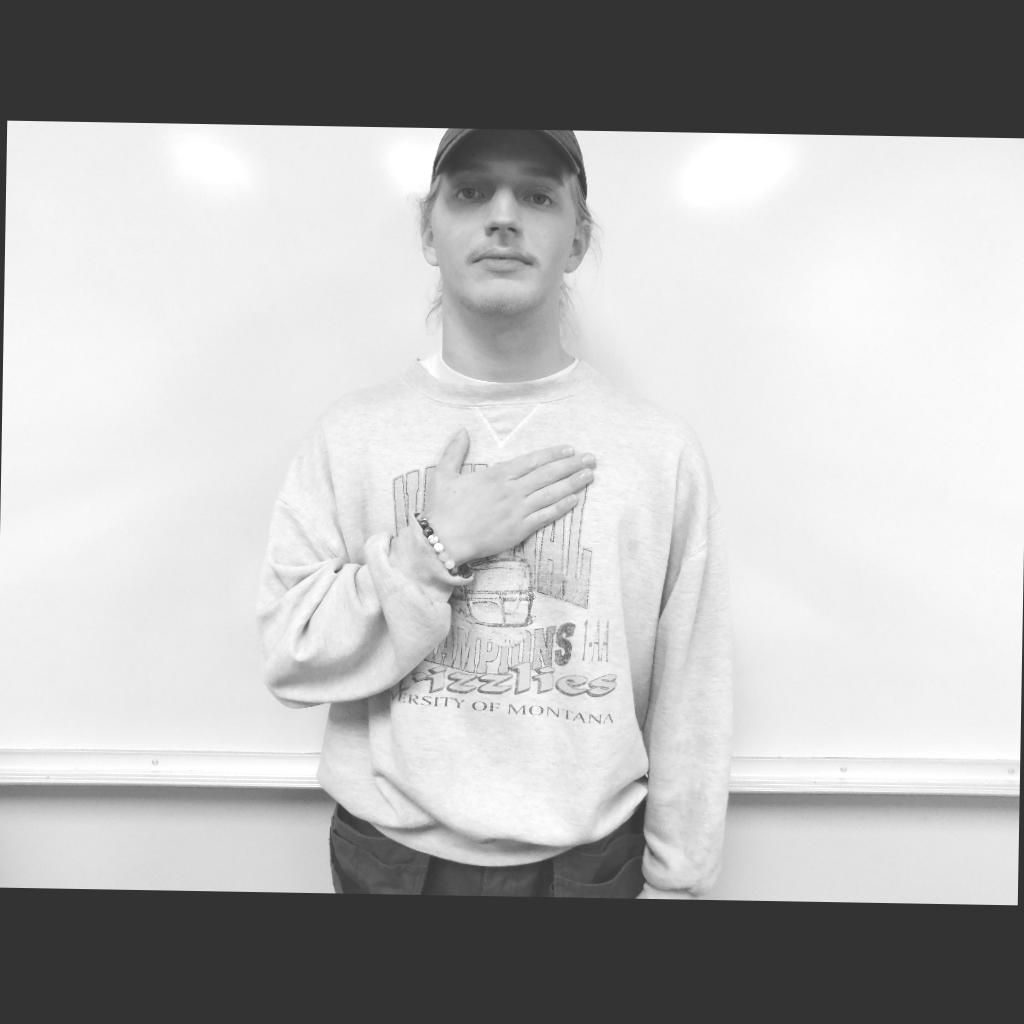my: (424, 425, 595, 561)
